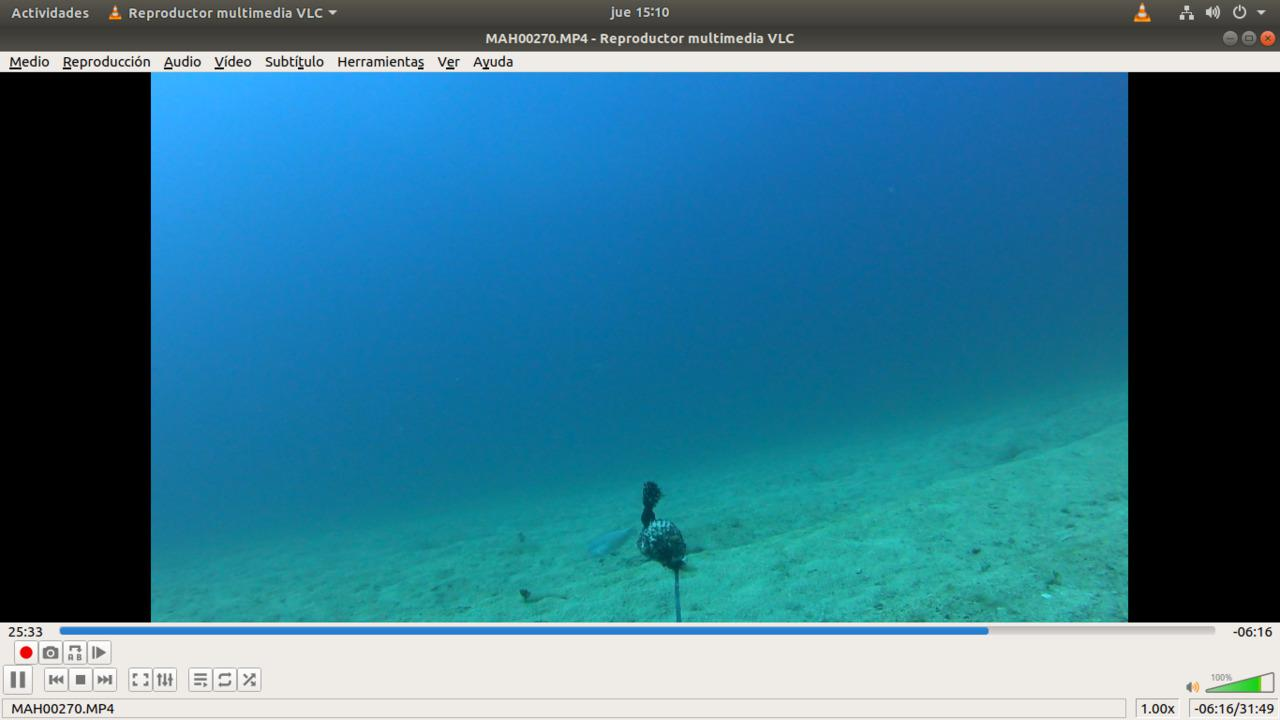raor: (579, 517, 639, 567)
